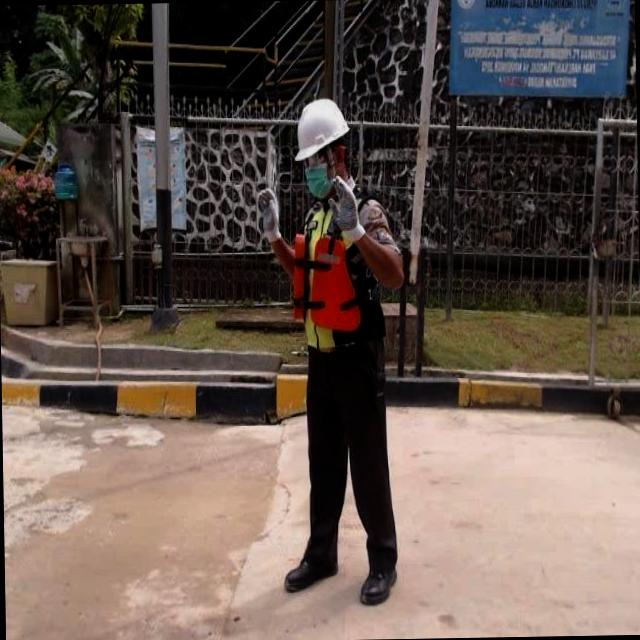vest: (282, 191, 378, 354)
